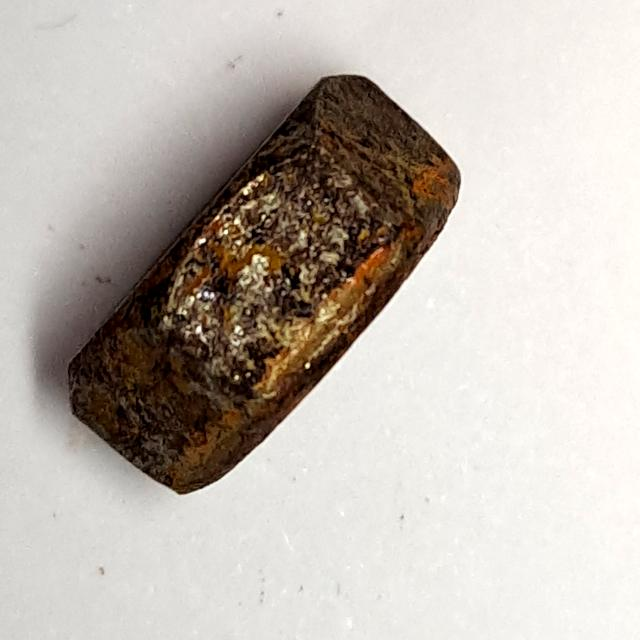Side_Rust: (51, 60, 469, 510)
